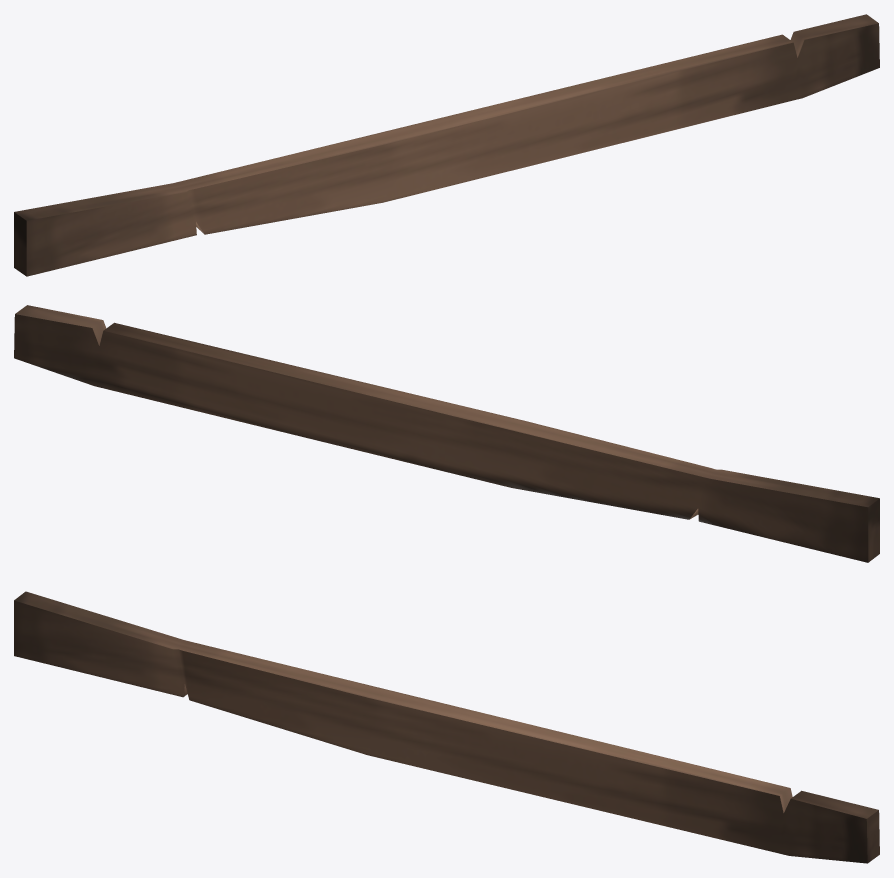
The model's file is Z1_Wood_Plank_2.FBX.
The picture shows the model from 3 angles, top to bottom: view 1: azimuth 30°, elevation 25°; view 2: azimuth 150°, elevation 25°; view 3: azimuth 330°, elevation 25°; orthographic projection.
Parts seen in each view (by area): view 1: Z1_Wood_Plank_2; view 2: Z1_Wood_Plank_2; view 3: Z1_Wood_Plank_2.
Part boxes in pixels (<box>): Z1_Wood_Plank_2: <box>14,14,879,276</box>; Z1_Wood_Plank_2: <box>14,305,879,562</box>; Z1_Wood_Plank_2: <box>14,591,879,863</box>.
Size of the model in its own units: 429 by 32.57 by 13.52.
